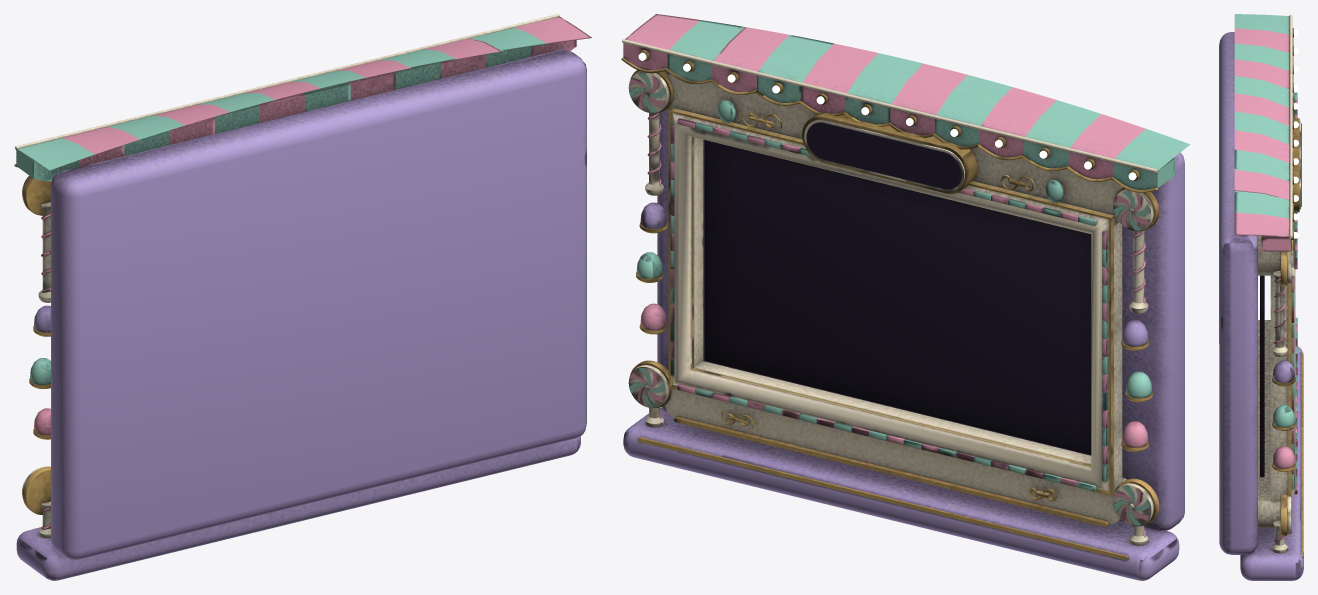
3 views of the same model, side by side, from view 1: azimuth 30°, elevation 25°; view 2: azimuth 150°, elevation 25°; view 3: azimuth 270°, elevation 25° (orthographic). The views are drawn at different scales.
Parts seen in each view (by area): view 1: Lilac_sugar_enamel, Mint_candy, Strawberry_candy, Vanilla_lacquer, Champagne_piping; view 2: Uniform_plum_display, Vanilla_lacquer, Lilac_sugar_enamel, Mint_candy, Strawberry_candy, Champagne_piping; view 3: Lilac_sugar_enamel, Strawberry_candy, Vanilla_lacquer, Mint_candy, Champagne_piping, Uniform_plum_display, Canopy_bulb_glow.
Boxes of the visible parts, bbox=[...] form: Lilac_sugar_enamel: bbox=[16, 49, 586, 580]; Mint_candy: bbox=[16, 27, 546, 384]; Strawberry_candy: bbox=[34, 16, 591, 529]; Vanilla_lacquer: bbox=[15, 14, 559, 537]; Champagne_piping: bbox=[14, 164, 51, 529]; Uniform_plum_display: bbox=[704, 122, 1091, 454]; Vanilla_lacquer: bbox=[622, 39, 1158, 545]; Lilac_sugar_enamel: bbox=[623, 71, 1184, 580]; Mint_candy: bbox=[629, 20, 1190, 525]; Strawberry_candy: bbox=[623, 14, 1149, 536]; Champagne_piping: bbox=[621, 50, 1159, 560]; Lilac_sugar_enamel: bbox=[1219, 32, 1303, 580]; Strawberry_candy: bbox=[1234, 28, 1297, 541]; Vanilla_lacquer: bbox=[1258, 14, 1300, 553]; Mint_candy: bbox=[1234, 14, 1297, 489]; Champagne_piping: bbox=[1272, 28, 1303, 557]; Uniform_plum_display: bbox=[1260, 123, 1301, 477]; Canopy_bulb_glow: bbox=[1294, 29, 1298, 238].
Size of the model in its own units: 11.08 by 8.5 by 1.79.
Materials: 7 (6 with a texture image).
